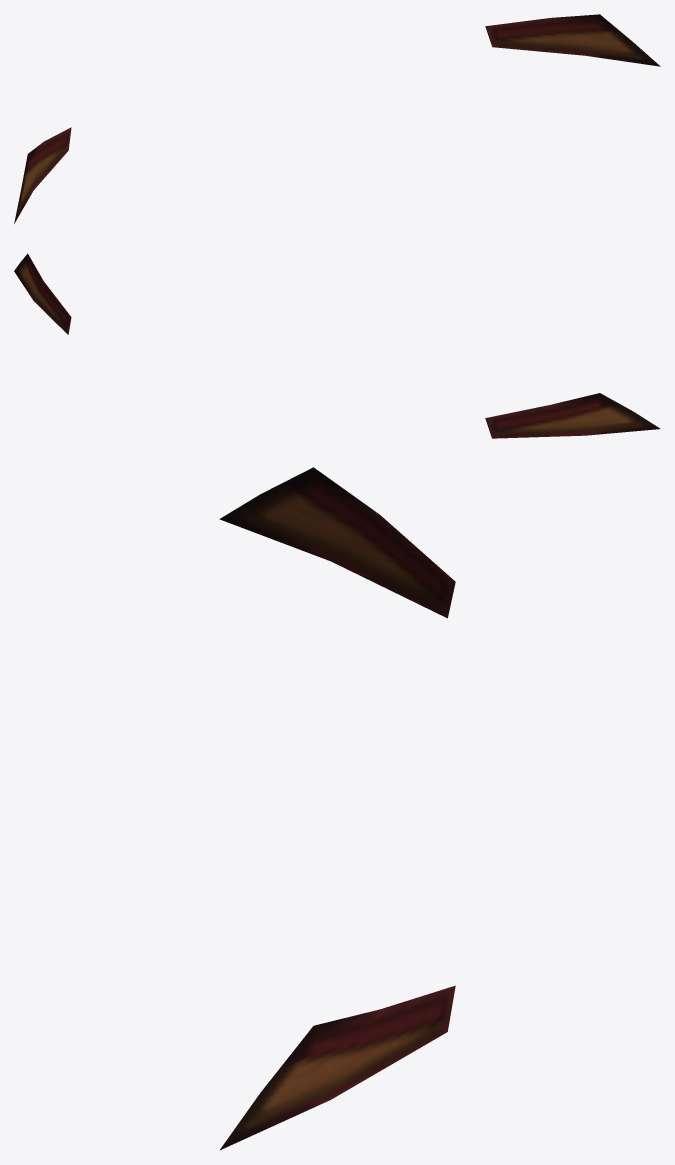
File: tailLight_Car_4.fbx
3 renders of one model, top to bottom at view 1: azimuth 30°, elevation 25°; view 2: azimuth 150°, elevation 25°; view 3: azimuth 270°, elevation 25°, orthographic. The views are drawn at different scales.
Visible parts, largest first — view 1: Taillight_Car_4; view 2: Taillight_Car_4; view 3: Taillight_Car_4.
Part boxes in pixels (<box>): Taillight_Car_4: <box>14,14,660,223</box>; Taillight_Car_4: <box>14,253,660,438</box>; Taillight_Car_4: <box>219,467,455,1150</box>.
Bounding box in the file's own units: 173 × 11.33 × 27.45.
